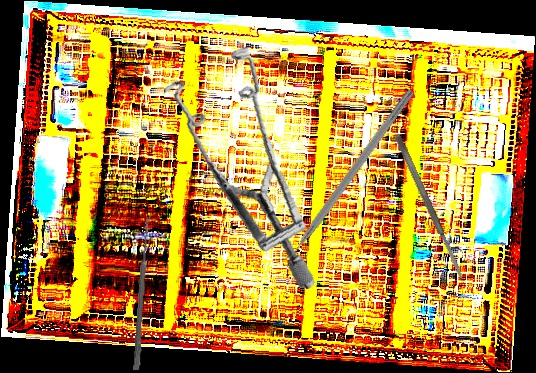Chopper: (268, 81, 416, 272)
Spatula Surgical: (393, 133, 466, 282)
Speculum: (139, 36, 346, 290)
Surgical Spoon: (133, 216, 151, 371)
